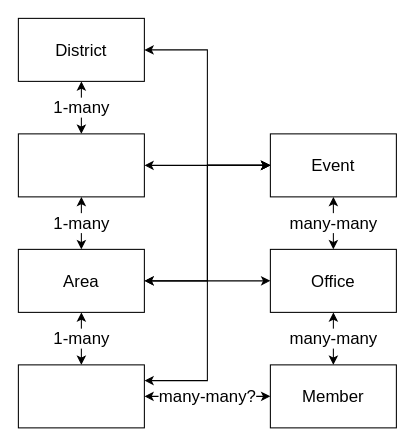
This 415x446 diagram has some shape labels left out. Each missing label, with the box of its shape:
Club: (17, 364, 144, 428)
Division: (17, 133, 144, 197)
